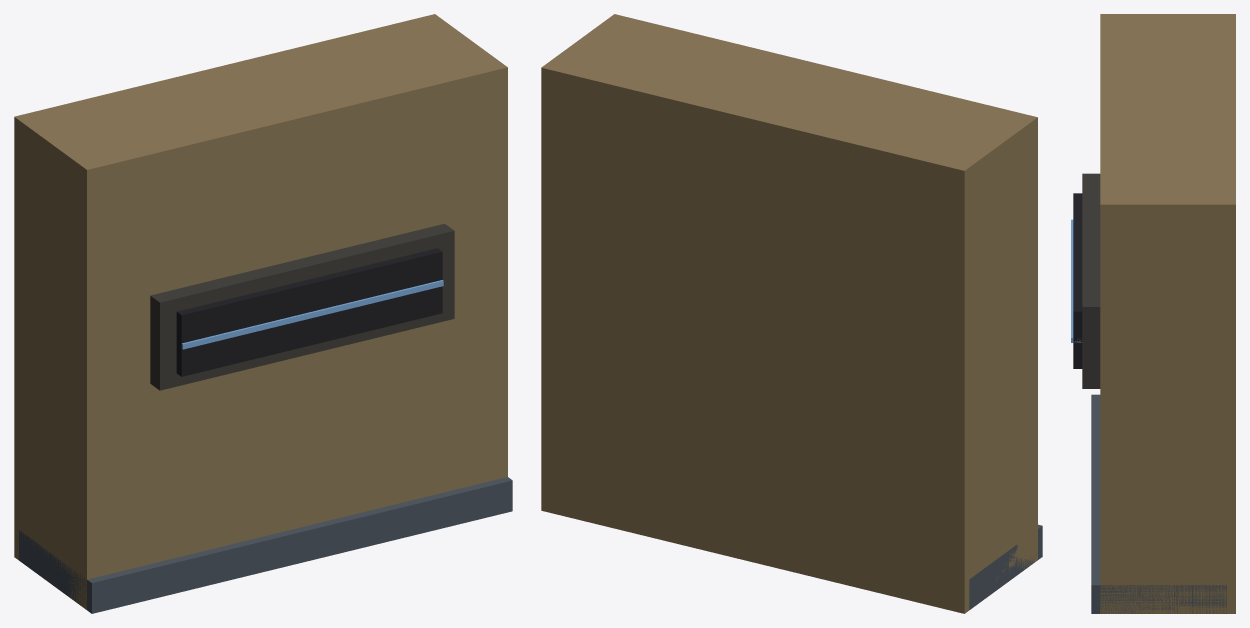
The model's file is separatist_wall_port.glb.
3 views of the same model, side by side, from view 1: azimuth 30°, elevation 25°; view 2: azimuth 150°, elevation 25°; view 3: azimuth 270°, elevation 25° (orthographic). The views are drawn at different scales.
Parts seen in each view (by area): view 1: separatist_wall_port; view 2: separatist_wall_port; view 3: separatist_wall_port.
Boxes of the visible parts, x1,y1,x2,y2 form: separatist_wall_port: (14, 14, 512, 613); separatist_wall_port: (541, 14, 1042, 613); separatist_wall_port: (1071, 14, 1235, 613).
Size of the model in its own units: 1 by 1 by 0.365.
